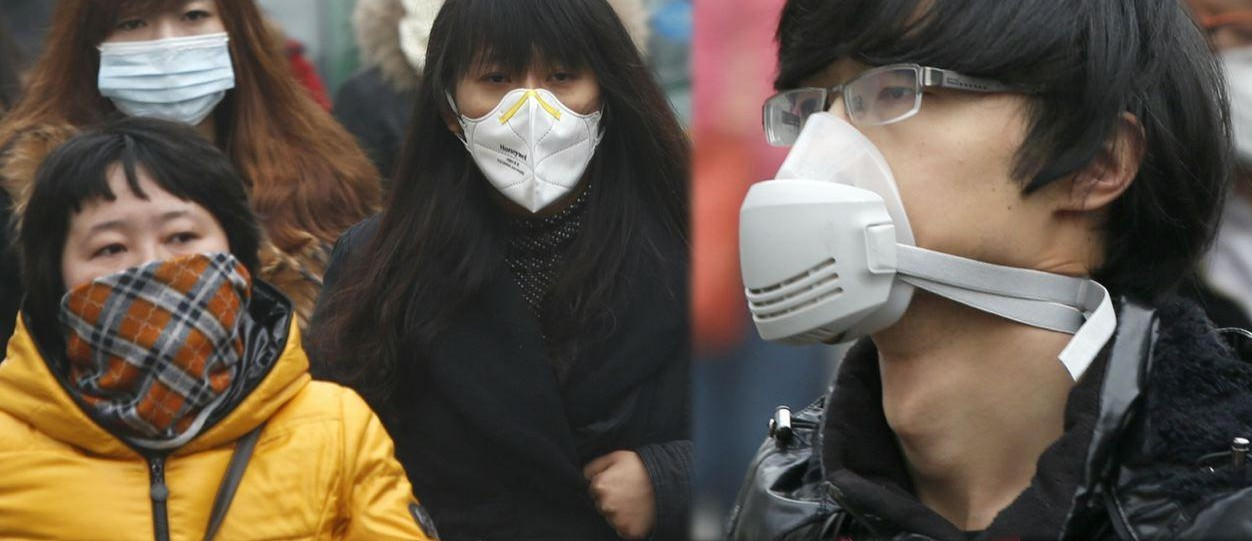with_mask: (746, 10, 1141, 398), (43, 163, 272, 440), (431, 21, 621, 217), (72, 2, 241, 131)
